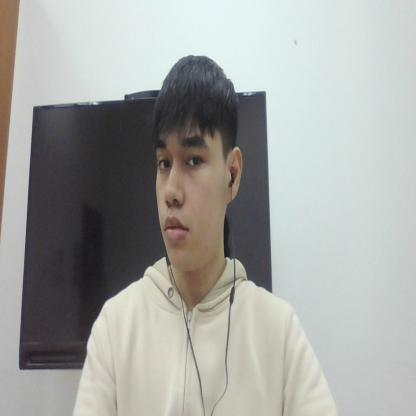Open-Eyes: (152, 126, 212, 193)
